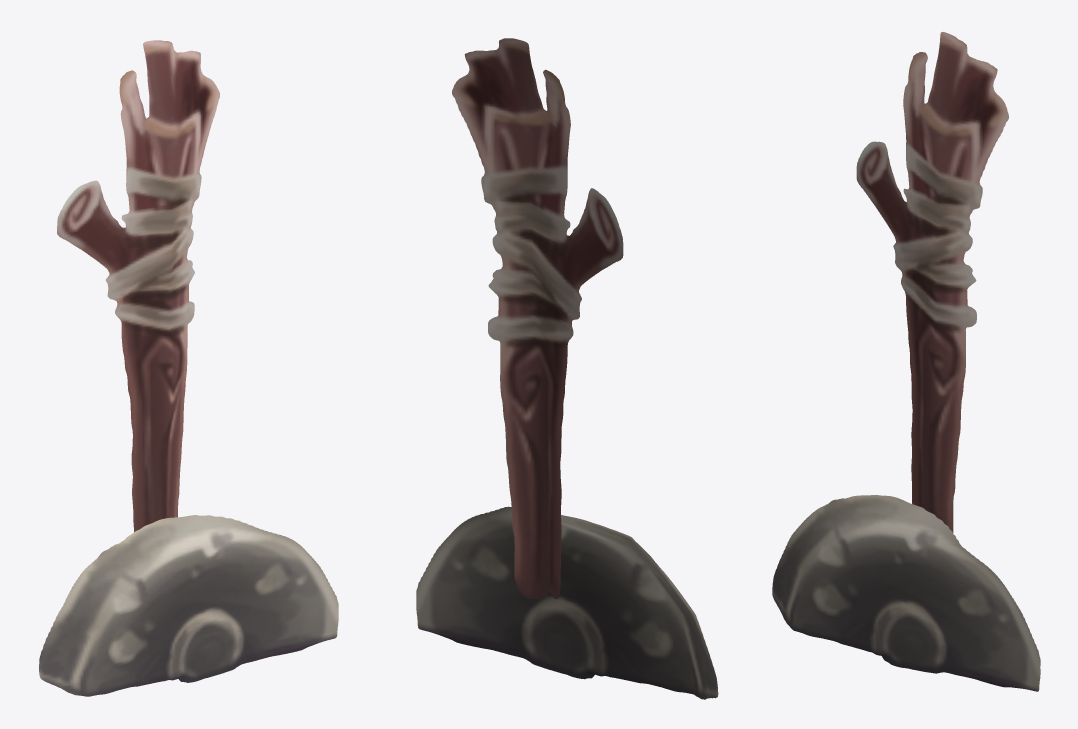
The model's file is Lever.FBX.
3 renders of one model, left to right at view 1: azimuth 30°, elevation 25°; view 2: azimuth 150°, elevation 25°; view 3: azimuth 330°, elevation 25°, orthographic. The views are drawn at different scales.
Parts seen in each view (by area): view 1: Lever Base, Lever; view 2: Lever, Lever Base; view 3: Lever Base, Lever.
Boxes of the visible parts, x1,y1,x2,y2 form: Lever Base: (39, 515, 338, 696); Lever: (57, 40, 219, 531); Lever: (452, 38, 623, 599); Lever Base: (416, 506, 718, 699); Lever Base: (772, 495, 1040, 691); Lever: (856, 32, 1008, 533).
Size of the model in its own units: 122 by 32.01 by 227.
